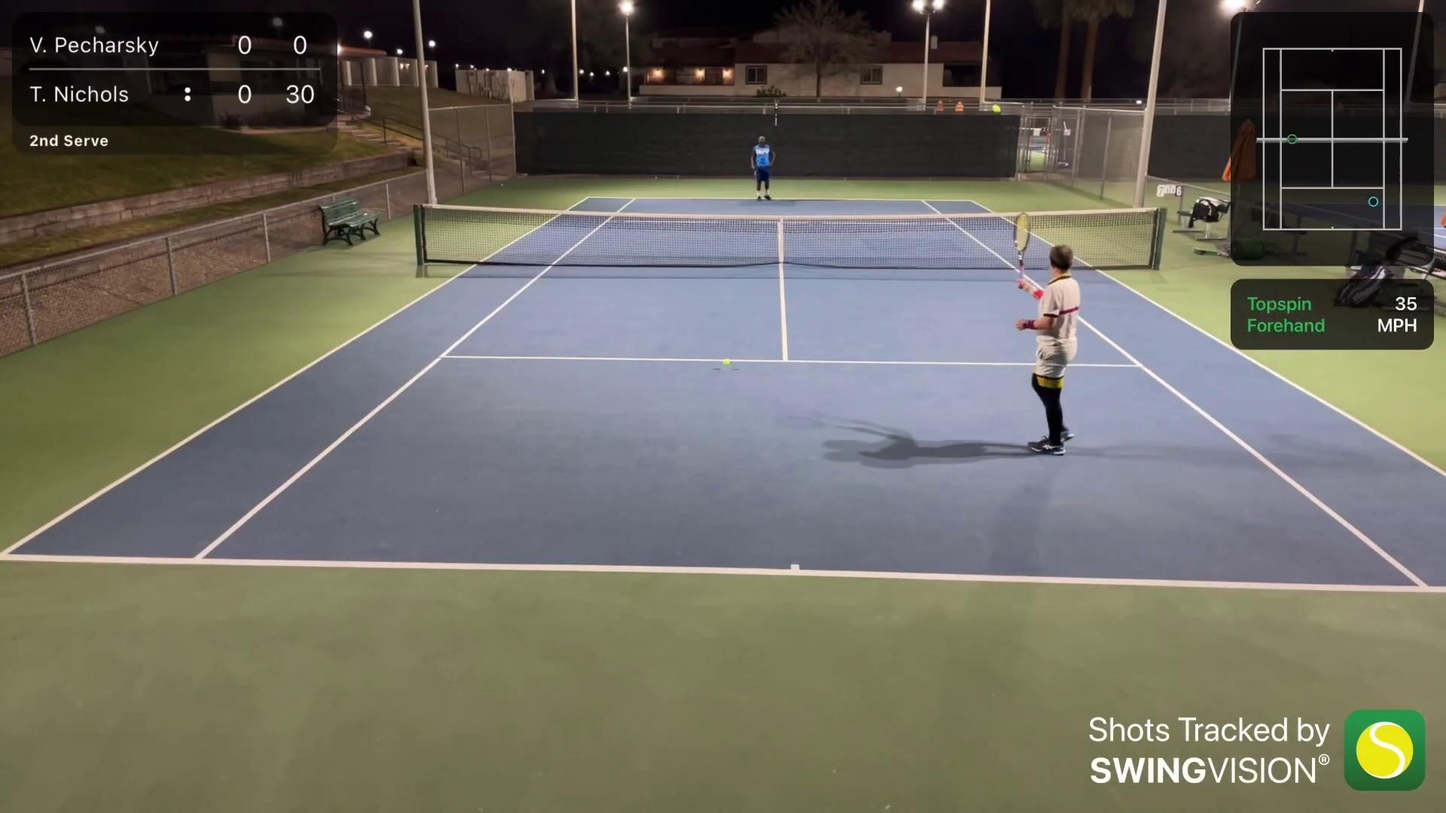ball: (720, 356, 734, 367), (990, 103, 997, 108)
